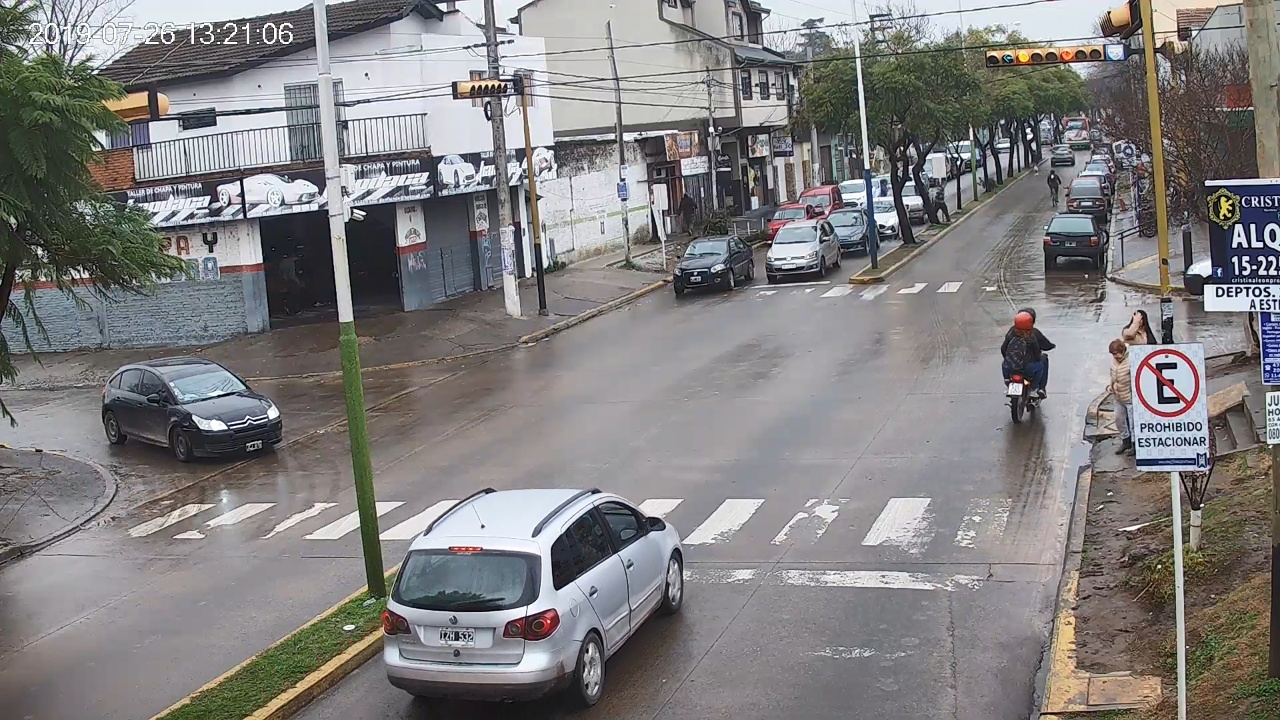car: (383, 488, 683, 706)
front car: (102, 356, 283, 462), (765, 218, 841, 281), (673, 236, 755, 293)
motorcycle: (1001, 326, 1056, 423)
traffic light: (1017, 46, 1102, 63)
